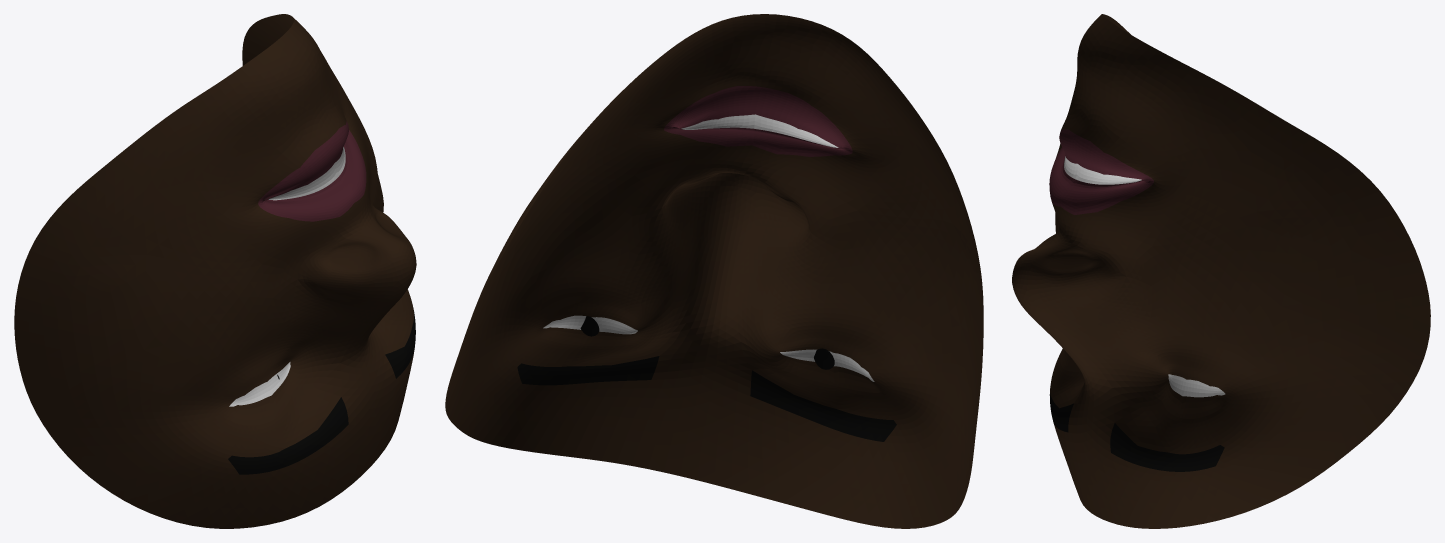
The model's file is frame_00069.obj.
The picture shows the model from 3 angles, left to right: view 1: azimuth 30°, elevation 25°; view 2: azimuth 150°, elevation 25°; view 3: azimuth 270°, elevation 25°; orthographic projection. The views are drawn at different scales.
Visible parts, largest first — view 1: face_mesh_subdivided; view 2: face_mesh_subdivided; view 3: face_mesh_subdivided.
Part boxes in pixels (<box>): face_mesh_subdivided: <box>14,14,416,528</box>; face_mesh_subdivided: <box>445,14,983,528</box>; face_mesh_subdivided: <box>1012,14,1430,528</box>.
Bounding box in the file's own units: 0.4891 × 0.5289 × 0.4288.
